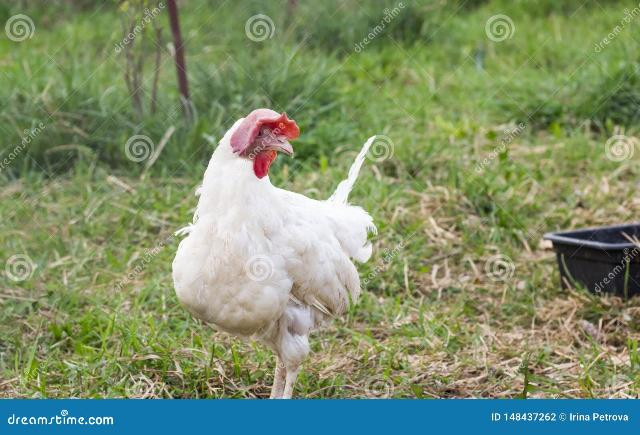Chicken: (172, 107, 380, 399)
